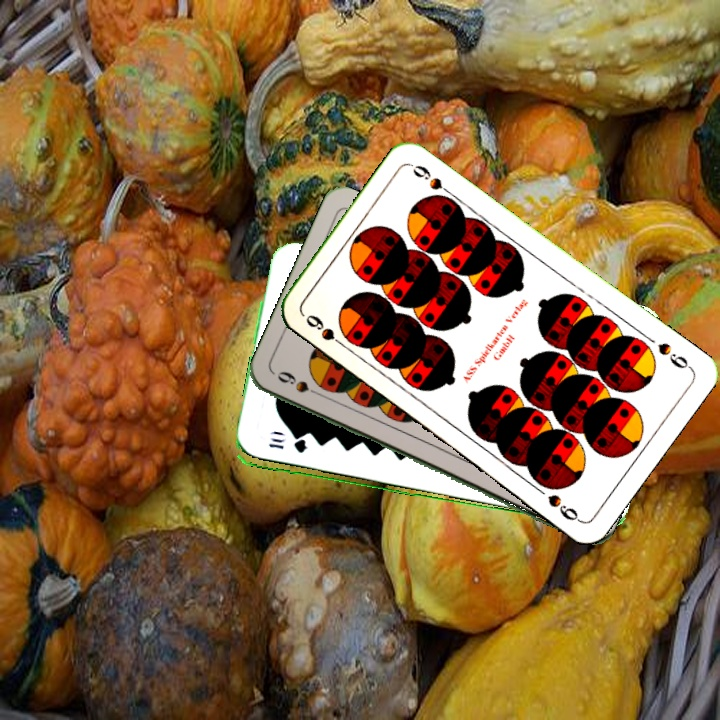G10: (265, 434, 309, 456)
S9: (301, 310, 350, 352), (273, 368, 328, 401), (653, 338, 695, 372)
